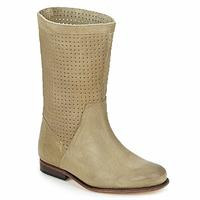shoe: (36, 7, 169, 193)
